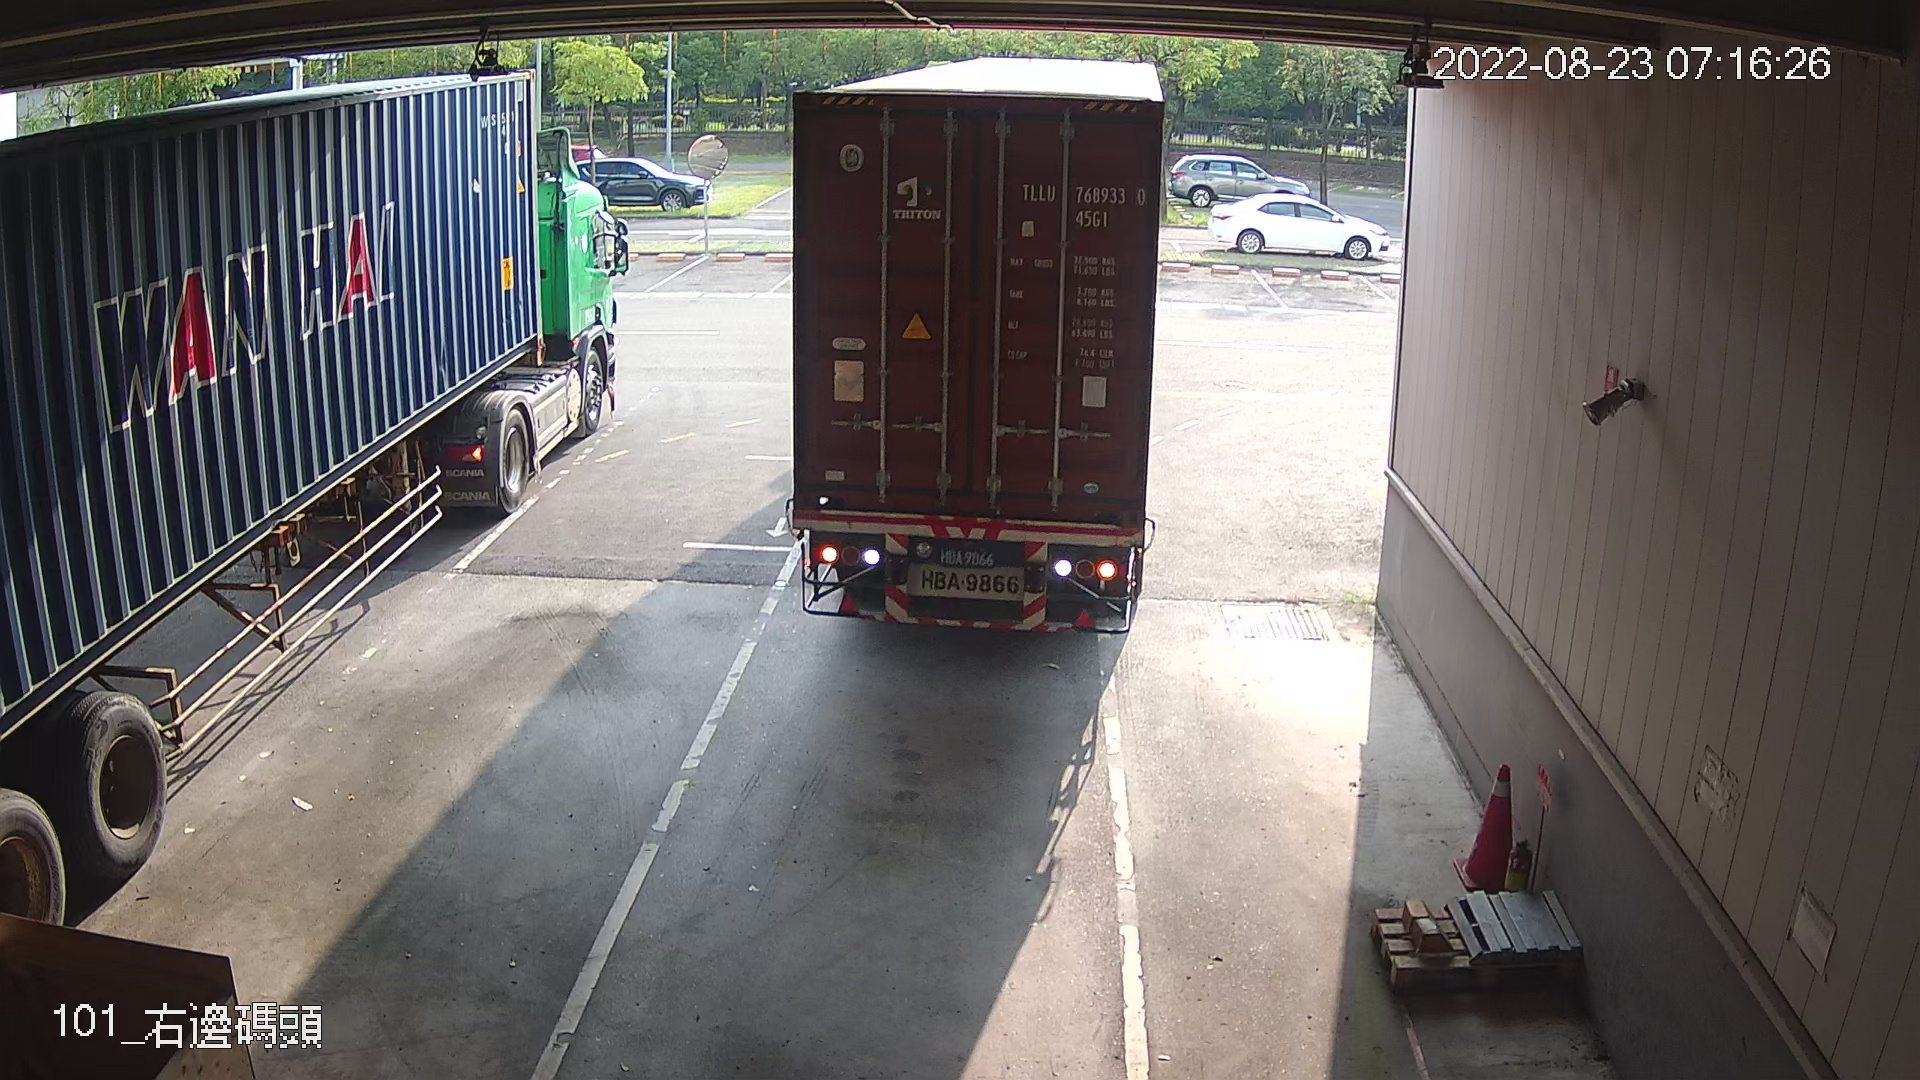container: (1014, 173, 1151, 235)
